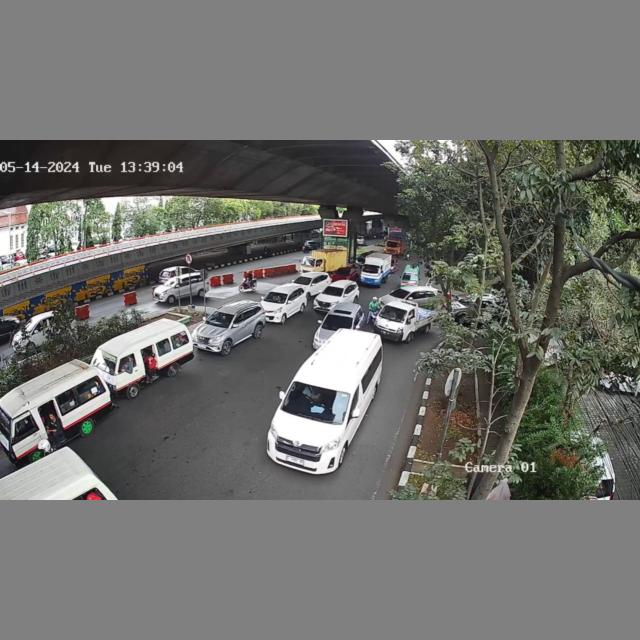windshield: (281, 382, 350, 429), (90, 348, 121, 375), (205, 310, 235, 331), (379, 304, 410, 322), (322, 313, 354, 330), (263, 292, 286, 303), (321, 286, 344, 297)
